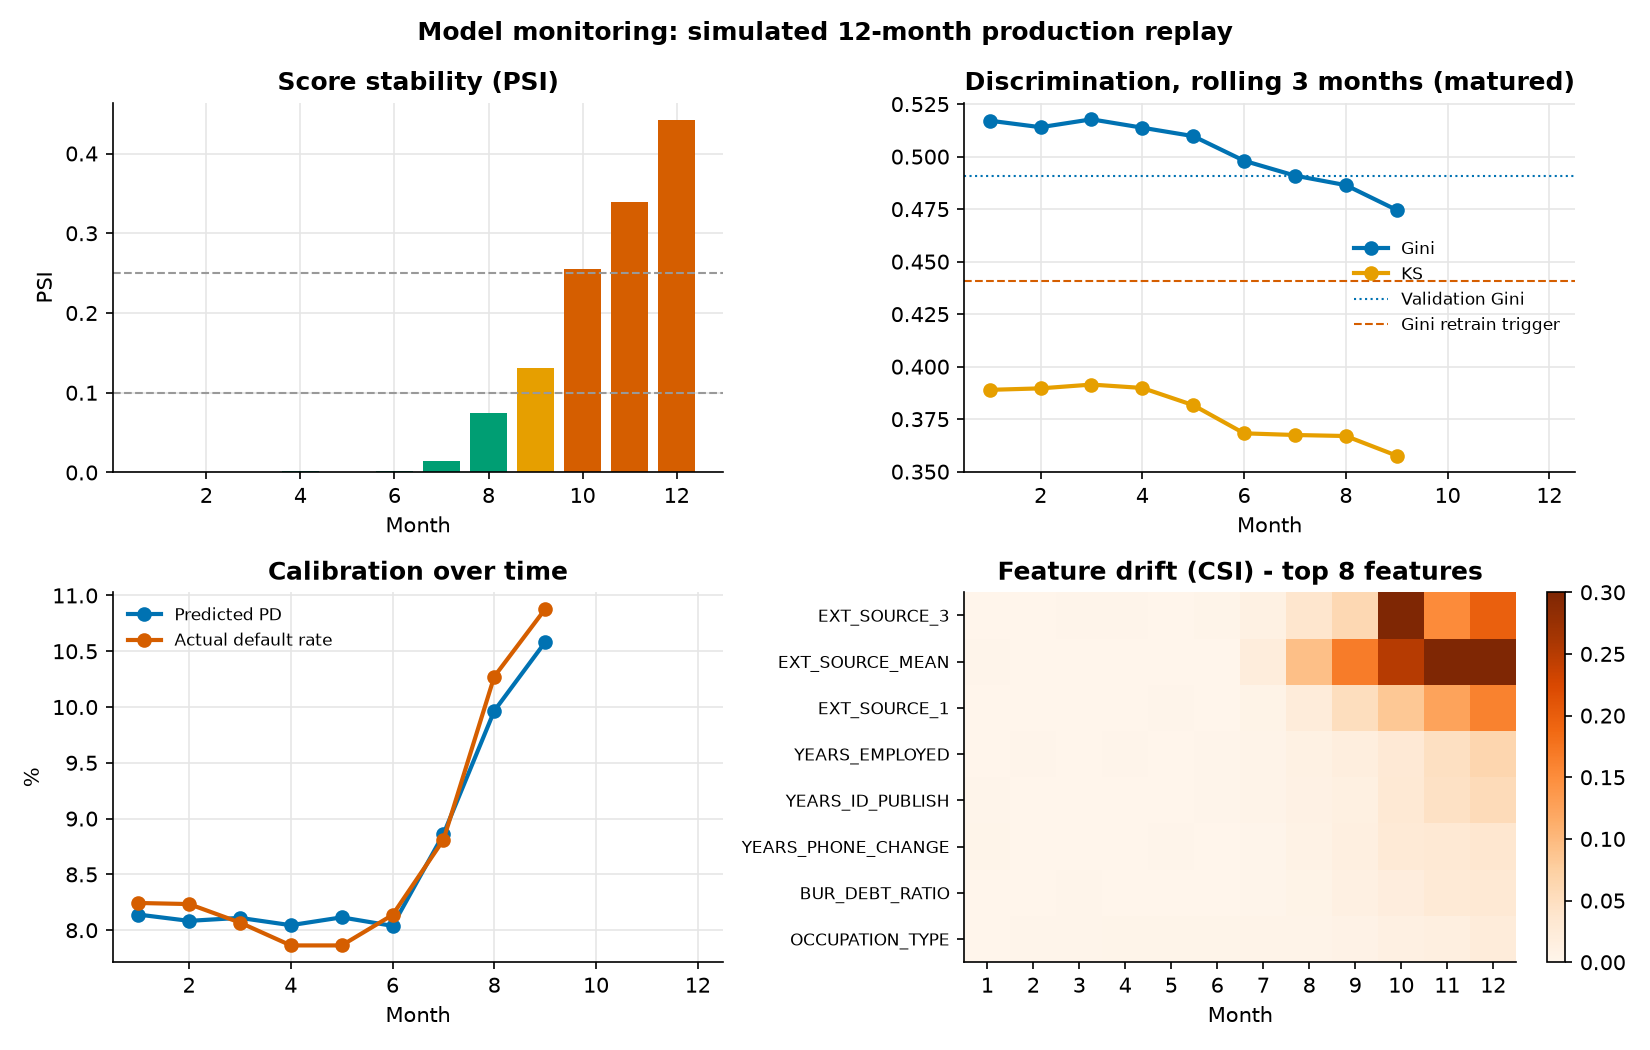

This screenshot's page, from the dashboard's own definition file:
{"tool":"powerbi","page":{"name":"Model monitoring","canvas":[1920,1080],"ordinal":3},"visuals":[{"type":"cardVisual","fields":{"Data":["_Measures.Latest Status","_Measures.Latest Score PSI","_Measures.Red Alerts"]},"box":[24,24,1872,150],"z":0},{"type":"clusteredColumnChart","title":"Score stability (PSI) by month","fields":{"Category":["monitoring_monthly.month"],"Y":["Sum(monitoring_monthly.score_psi)"]},"box":[24,190,928,410],"z":1},{"type":"lineChart","title":"Discrimination: rolling Gini and KS","fields":{"Category":["monitoring_monthly.month"],"Y":["Sum(monitoring_monthly.gini)","Sum(monitoring_monthly.ks)","_Measures.Validation Gini","_Measures.Gini Retrain Trigger"]},"box":[24,616,600,392],"z":2},{"type":"lineChart","title":"Calibration: predicted PD vs actual default rate","fields":{"Category":["monitoring_monthly.month"],"Y":["Sum(monitoring_monthly.actual_default_rate)","Sum(monitoring_monthly.mean_pd)"]},"box":[640,616,600,392],"z":3},{"type":"pivotTable","title":"Feature drift (CSI) by month","fields":{"Columns":["monitoring_csi.month"],"Rows":["monitoring_csi.feature"],"Values":["Sum(monitoring_csi.csi)"]},"box":[968,190,928,410],"z":4},{"type":"tableEx","title":"Monitoring alerts","fields":{"Values":["monitoring_alerts.month","monitoring_alerts.check","monitoring_alerts.status","monitoring_alerts.detail"]},"box":[1256,616,640,392],"z":5},{"type":"cardVisual","fields":{"Data":["_Measures.Footer"]},"box":[24,1016,1872,56],"z":6}]}

Visuals, with their boxes on the page's 1920x1080 design canvas (x1, y1, x2, y2). These are canvas units, not pixel positions in the 1650x1050 screenshot, which may show the page scaled, cropped or inside an application window:
cardVisual - _Measures.Latest Status x _Measures.Latest Score PSI: pyautogui.locateOnScreen(24, 24, 1896, 174)
"Score stability (PSI) by month" clusteredColumnChart: pyautogui.locateOnScreen(24, 190, 952, 600)
"Discrimination: rolling Gini and KS" lineChart: pyautogui.locateOnScreen(24, 616, 624, 1008)
"Calibration: predicted PD vs actual default rate" lineChart: pyautogui.locateOnScreen(640, 616, 1240, 1008)
"Feature drift (CSI) by month" pivotTable: pyautogui.locateOnScreen(968, 190, 1896, 600)
"Monitoring alerts" tableEx: pyautogui.locateOnScreen(1256, 616, 1896, 1008)
cardVisual - _Measures.Footer: pyautogui.locateOnScreen(24, 1016, 1896, 1072)
